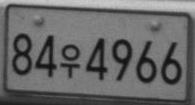4: (34, 34, 57, 78), (85, 37, 108, 81)
6: (135, 40, 158, 83), (160, 41, 182, 85)
8: (10, 32, 33, 76)
9: (110, 37, 132, 81)
우: (60, 43, 81, 78)
